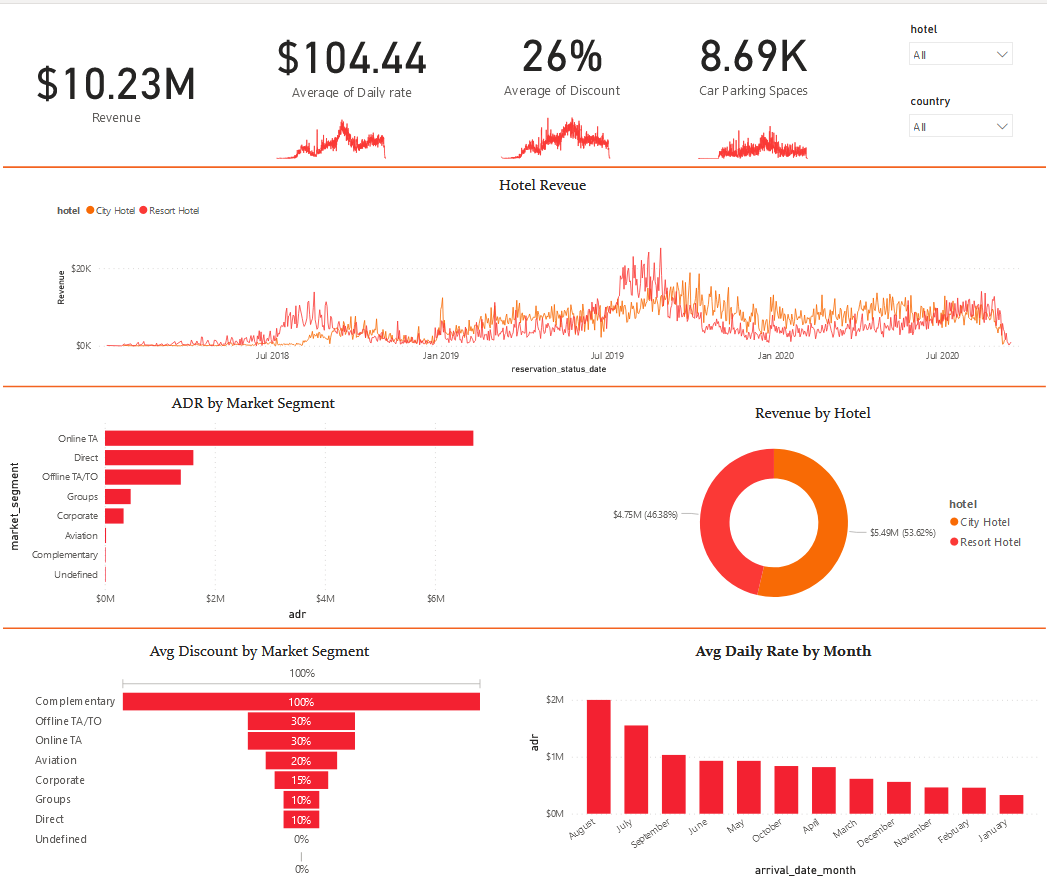

Layout of this report page (visuals, bound fields, positions):
{"tool":"powerbi","page":{"name":"Page 1","canvas":[1280,1100],"ordinal":0},"visuals":[{"type":"shape","box":[0,184,1280,35.7],"z":0},{"type":"shape","box":[0,452.4,1279.6,36.3],"z":1000},{"type":"card","fields":{"Values":["Sum(Query1.Revenue)"]},"box":[16.5,20.6,245.8,163.4],"z":2000},{"type":"card","fields":{"Values":["Avg(Query1.adr)"]},"box":[288.4,20.6,280.2,101.6],"z":3000},{"type":"card","fields":{"Values":["Avg(Query1.Discount)"]},"box":[568.6,15.1,234.8,107.1],"z":4000},{"type":"lineChart","title":"Hotel Reveue","fields":{"Category":["Query1.reservation_status_date"],"Y":["Sum(Query1.Revenue)"],"Series":["Query1.hotel"]},"box":[60.4,212.4,1201.9,246.9],"z":5000},{"type":"slicer","fields":{"Values":["Query1.country"]},"box":[1101.5,107.1,148.3,71.4],"z":6000},{"type":"slicer","fields":{"Values":["Query1.hotel"]},"box":[1101.5,17.9,148.3,71.4],"z":7000},{"type":"lineChart","fields":{"Category":["Query1.reservation_status_date"],"Y":["Sum(Query1.adr)"]},"box":[321.4,122.2,163.4,74.2],"z":8000},{"type":"lineChart","fields":{"Category":["Query1.reservation_status_date"],"Y":["Sum(Query1.Discount)"]},"box":[596.1,122.2,163.4,74.2],"z":9000},{"type":"card","fields":{"Values":["Sum(Query1.required_car_parking_spaces)"]},"box":[803.4,15.1,234.8,107.1],"z":10000},{"type":"lineChart","fields":{"Category":["Query1.reservation_status_date"],"Y":["Sum(Query1.required_car_parking_spaces)"]},"box":[839.1,122.2,163.4,74.2],"z":11000},{"type":"donutChart","title":"Revenue by Hotel","fields":{"Category":["Query1.hotel"],"Y":["Sum(Query1.Revenue)"]},"box":[725.3,492.2,537,271.1],"z":12000},{"type":"barChart","title":"ADR by Market Segment","fields":{"Category":["Query1.market_segment"],"Y":["Sum(Query1.adr)"]},"box":[0,480.1,614.8,283.2],"z":13000},{"type":"funnel","title":"Avg Discount by Market Segment","fields":{"Category":["Query1.market_segment"],"Y":["Avg(Query1.Discount)"]},"box":[34.5,784,561.2,293.6],"z":14000},{"type":"shape","box":[0,749.5,1279.6,36.3],"z":15000},{"type":"columnChart","title":"Avg Daily Rate  by Month","fields":{"Category":["Query1.arrival_date_month"],"Y":["Sum(Query1.adr)"]},"box":[638.9,784,637.2,293.6],"z":16000}]}

Visuals, with their boxes in screenshot pixels (x1, y1, x2, y2), scaled from the page's 1280x1100 canvas onto the 1047x884 screenshot:
shape: (0,148,1046,177)
shape: (0,364,1046,393)
card - Sum(Query1.Revenue): (13,17,215,148)
card - Avg(Query1.adr): (236,17,465,98)
card - Avg(Query1.Discount): (465,12,657,98)
"Hotel Reveue" lineChart: (49,171,1033,369)
slicer - Query1.country: (901,86,1022,143)
slicer - Query1.hotel: (901,14,1022,72)
lineChart - Query1.reservation_status_date x Sum(Query1.adr): (263,98,397,158)
lineChart - Query1.reservation_status_date x Sum(Query1.Discount): (488,98,621,158)
card - Sum(Query1.required_car_parking_spaces): (657,12,849,98)
lineChart - Query1.reservation_status_date x Sum(Query1.required_car_parking_spaces): (686,98,820,158)
"Revenue by Hotel" donutChart: (593,396,1033,613)
"ADR by Market Segment" barChart: (0,386,503,613)
"Avg Discount by Market Segment" funnel: (28,630,487,866)
shape: (0,602,1046,631)
"Avg Daily Rate  by Month" columnChart: (523,630,1044,866)
